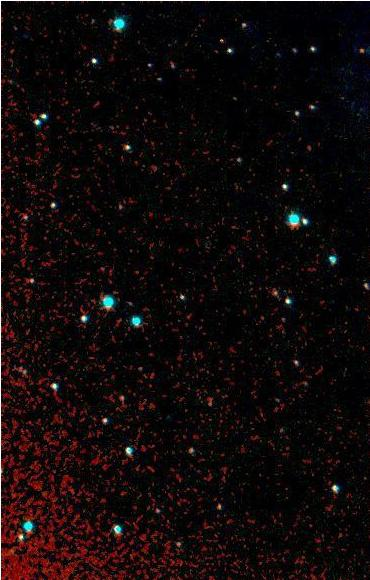star: (348, 33, 370, 63)
